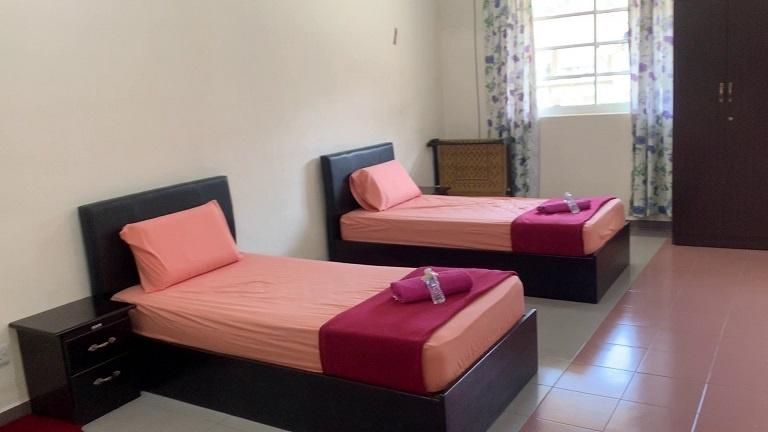bed: (43, 165, 541, 432), (299, 140, 642, 299)
table: (18, 304, 149, 427), (418, 179, 454, 197)
